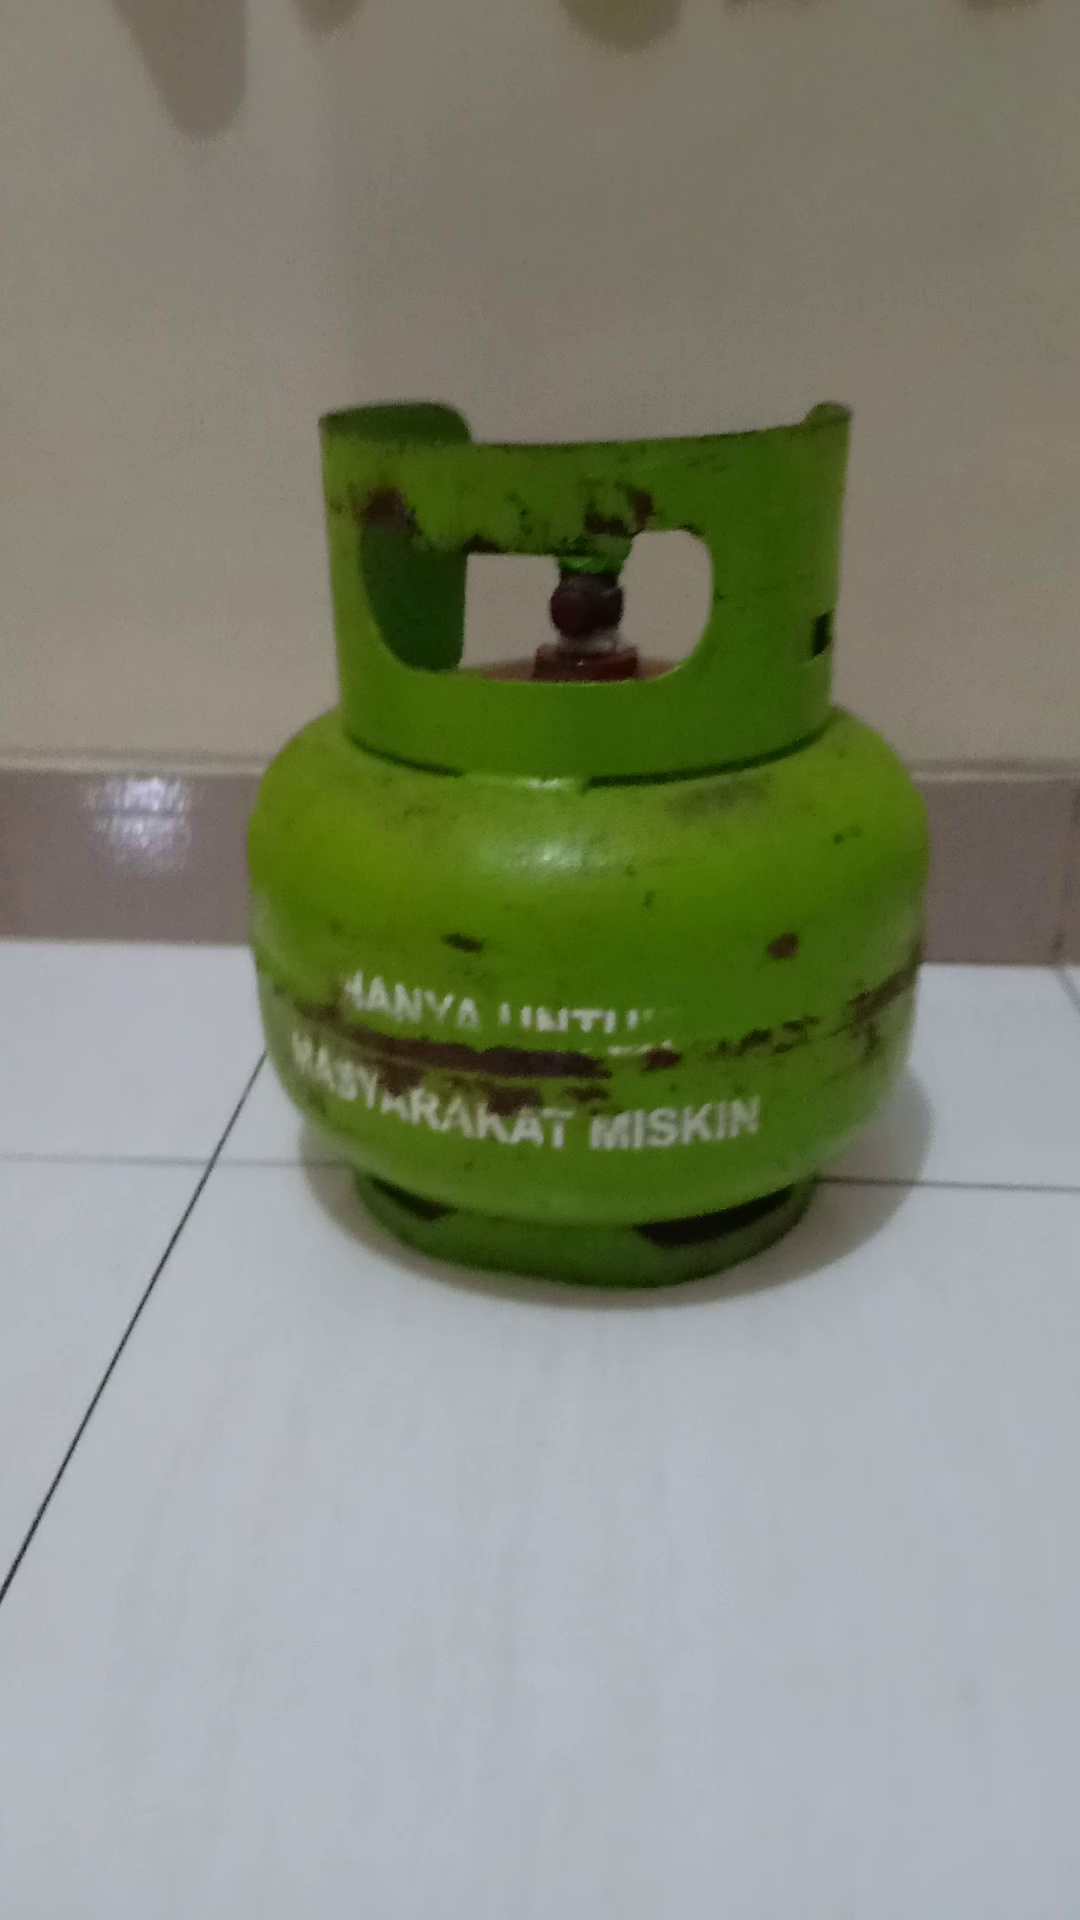gas_ijo: (245, 401, 940, 1299)
